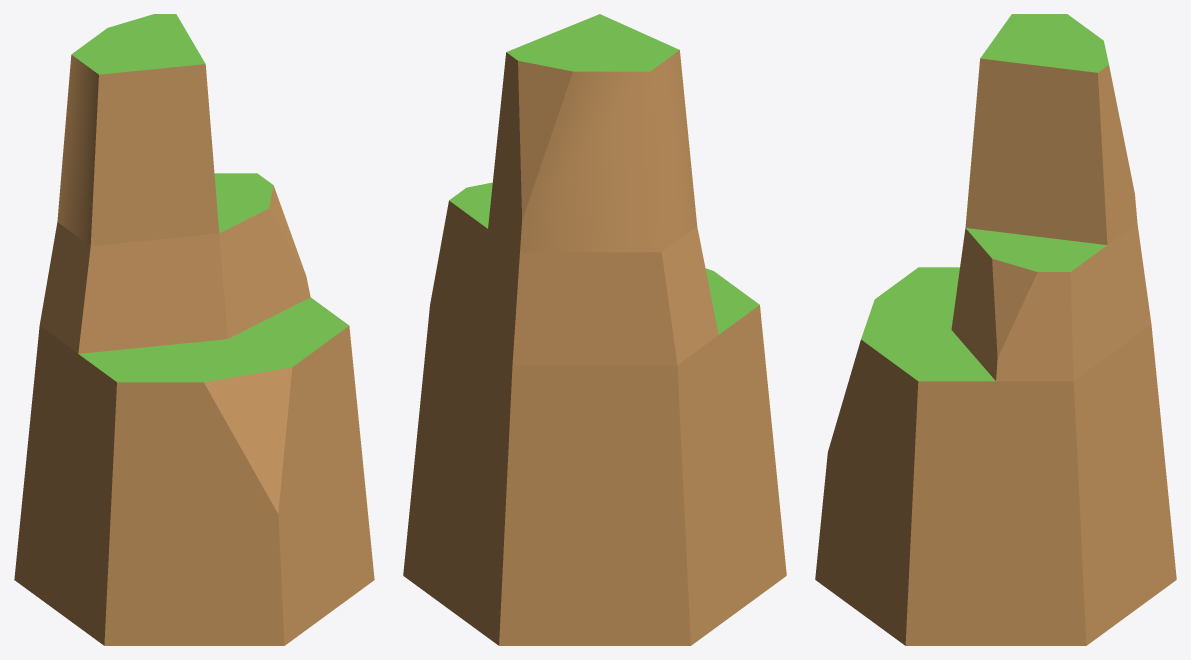
The model's file is rock-spire.glb.
3 renders of one model, left to right at view 1: azimuth 30°, elevation 25°; view 2: azimuth 150°, elevation 25°; view 3: azimuth 270°, elevation 25°, orthographic. The views are drawn at different scales.
Visible parts, largest first — view 1: rock_tallG; view 2: rock_tallG; view 3: rock_tallG.
Part boxes in pixels (x1,y1,x2,y2): rock_tallG: (14, 14, 374, 645); rock_tallG: (403, 14, 786, 645); rock_tallG: (815, 14, 1176, 645).
Bounding box in the file's own units: 1.7 × 3.13 × 1.96.
